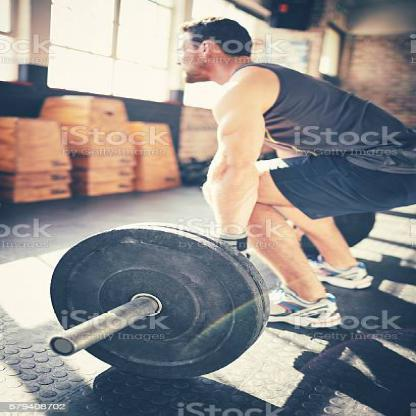Barbell: (22, 220, 274, 390)
